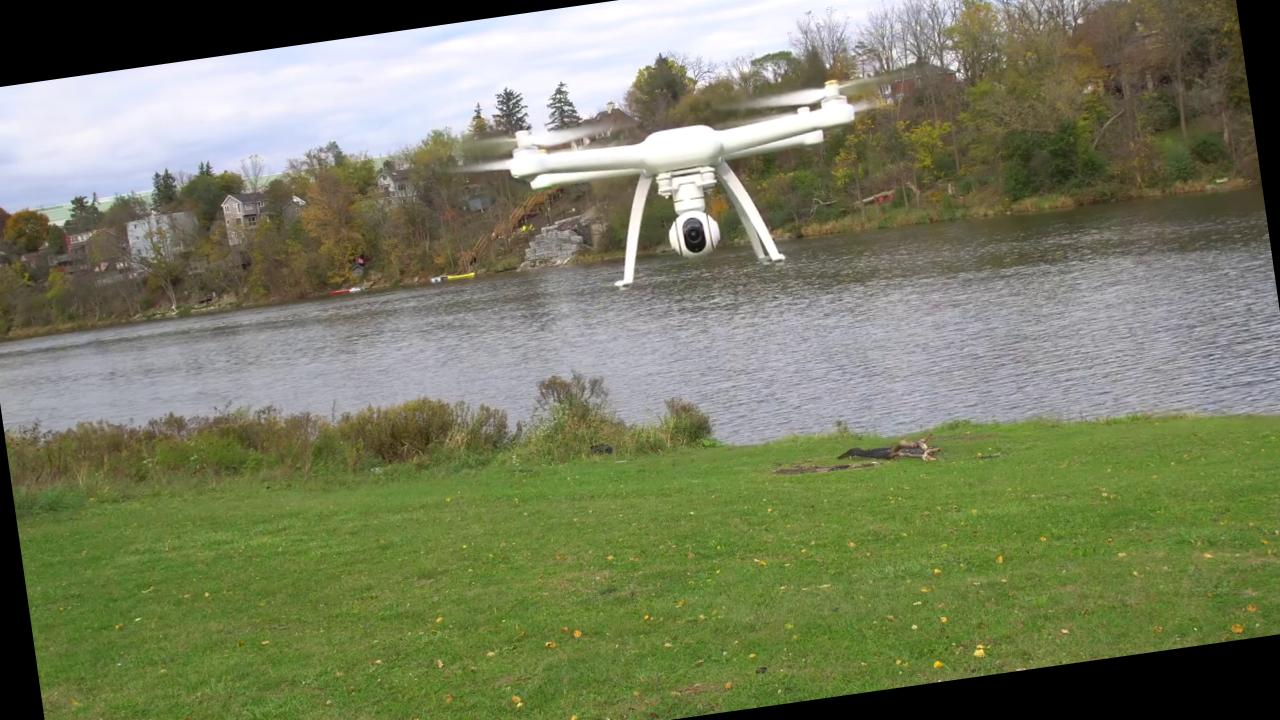drone: (463, 49, 934, 231)
